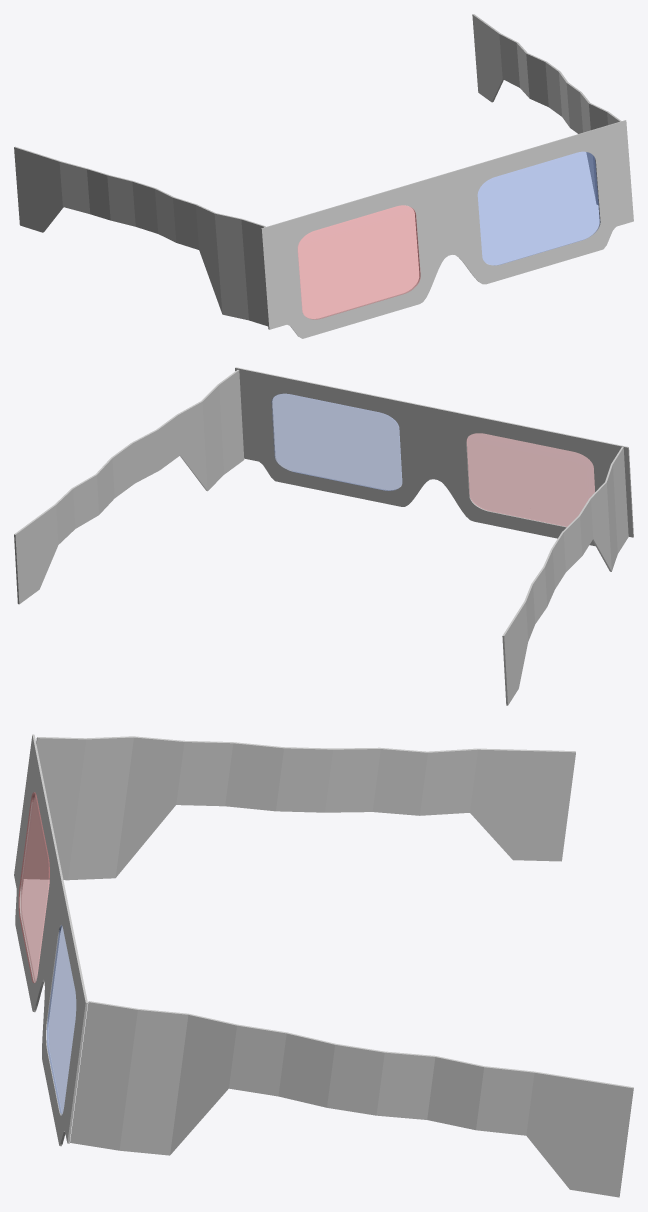
The picture shows the model from 3 angles, top to bottom: view 1: azimuth 30°, elevation 25°; view 2: azimuth 150°, elevation 25°; view 3: azimuth 270°, elevation 25°; orthographic projection. The views are drawn at different scales.
Visible parts, largest first — view 1: 3d Glasses; view 2: 3d Glasses; view 3: 3d Glasses.
Part boxes in pixels (box(x1,y1,x2,y2)): 3d Glasses: box(14, 14, 633, 338); 3d Glasses: box(14, 367, 633, 705); 3d Glasses: box(14, 734, 633, 1197).
Size of the model in its own units: 2.54 by 0.5935 by 1.96.
